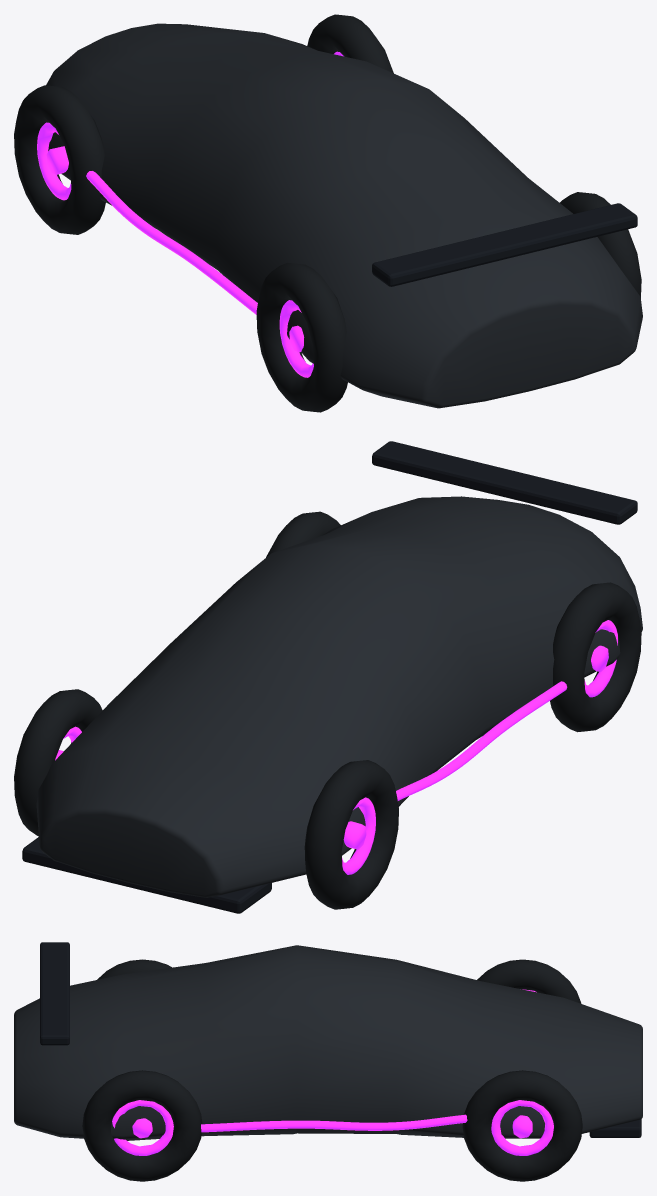
File: AfareetKing_LOD0_Inspection.glb
3 views of the same model, one above another, from view 1: azimuth 30°, elevation 25°; view 2: azimuth 150°, elevation 25°; view 3: azimuth 270°, elevation 25° (orthographic). The views are drawn at different scales.
Parts seen in each view (by area): view 1: AfareetKing_Body_LOD0, AfareetKing_Wheel_FL_LOD0, AfareetKing_Wheel_RL_LOD0, AfareetKing_Wheel_FR_LOD0, AfareetKing_Wheel_RR_LOD0; view 2: AfareetKing_Body_LOD0, AfareetKing_Wheel_FL_LOD0, AfareetKing_Wheel_RL_LOD0, AfareetKing_Wheel_FR_LOD0, AfareetKing_Wheel_RR_LOD0; view 3: AfareetKing_Body_LOD0, AfareetKing_Wheel_FR_LOD0, AfareetKing_Wheel_RR_LOD0, AfareetKing_Wheel_FL_LOD0, AfareetKing_Wheel_RL_LOD0.
Boxes of the visible parts, x1,y1,x2,y2 form: AfareetKing_Body_LOD0: [46, 23, 642, 408]; AfareetKing_Wheel_FL_LOD0: [14, 85, 105, 234]; AfareetKing_Wheel_RL_LOD0: [256, 262, 347, 412]; AfareetKing_Wheel_FR_LOD0: [307, 14, 393, 73]; AfareetKing_Wheel_RR_LOD0: [560, 192, 641, 297]; AfareetKing_Body_LOD0: [22, 441, 642, 913]; AfareetKing_Wheel_FL_LOD0: [304, 760, 398, 909]; AfareetKing_Wheel_RL_LOD0: [550, 582, 641, 732]; AfareetKing_Wheel_FR_LOD0: [14, 689, 102, 836]; AfareetKing_Wheel_RR_LOD0: [266, 511, 340, 557]; AfareetKing_Body_LOD0: [14, 942, 642, 1140]; AfareetKing_Wheel_FR_LOD0: [462, 1070, 582, 1181]; AfareetKing_Wheel_RR_LOD0: [82, 1070, 202, 1181]; AfareetKing_Wheel_FL_LOD0: [477, 959, 581, 1003]; AfareetKing_Wheel_RL_LOD0: [97, 959, 171, 979].
Size of the model in its own units: 2.13 by 1.36 by 4.6.
